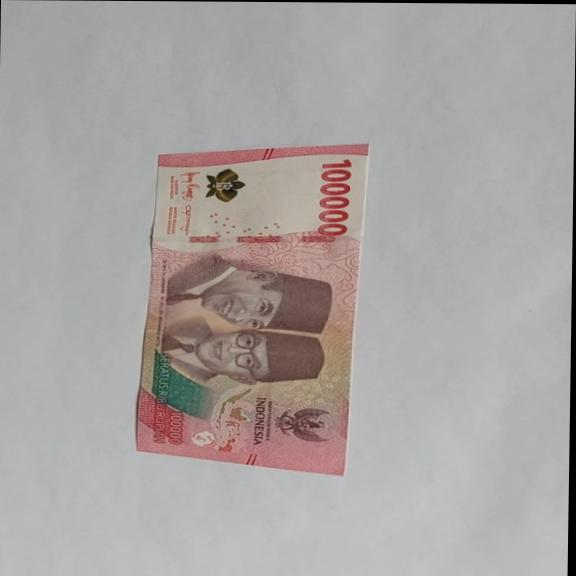Kertas: (134, 142, 370, 477), (316, 158, 355, 237)
